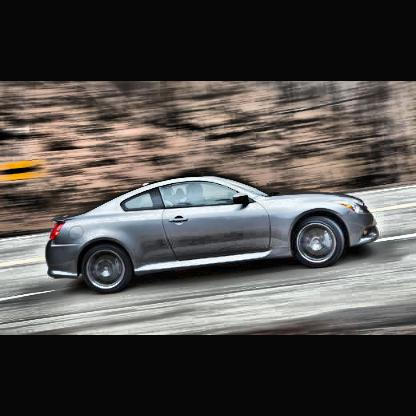Infiniti G Coupe IPL 2012: (46, 175, 380, 294)
